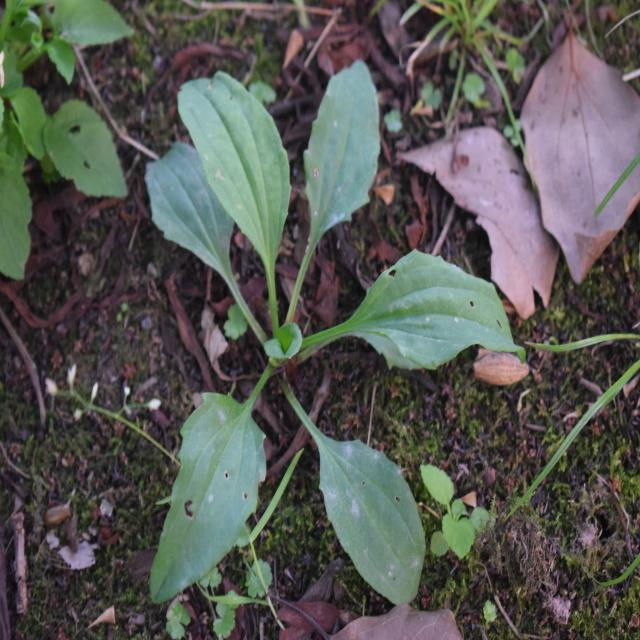plantain: (135, 53, 514, 551)
